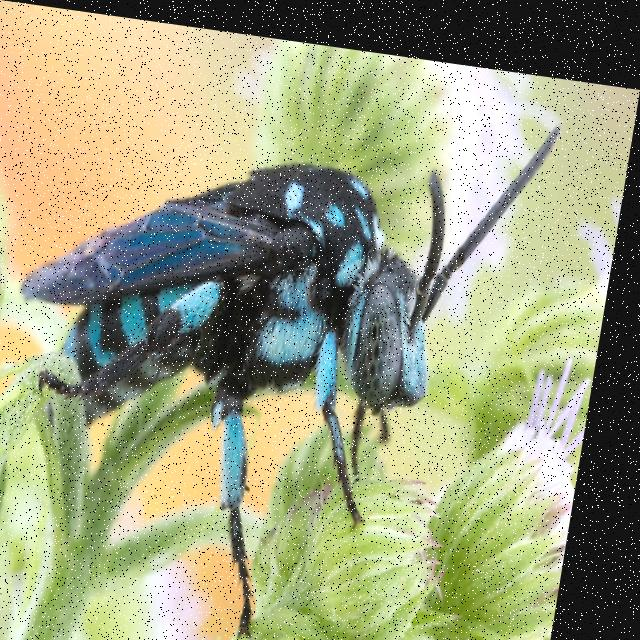Thyreus: (0, 38, 570, 640)
